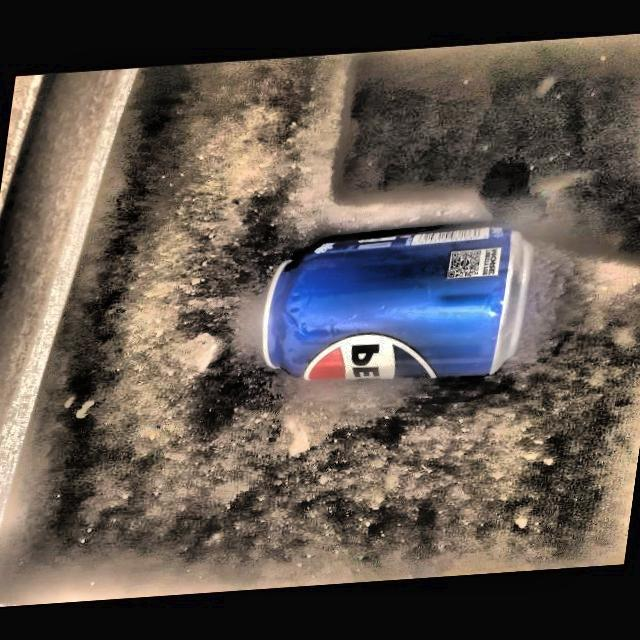pepsi-can: (264, 223, 530, 392)
